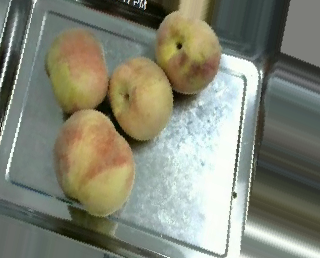Peach: (52, 109, 134, 217), (153, 4, 222, 97), (106, 58, 174, 141), (44, 27, 109, 111)
